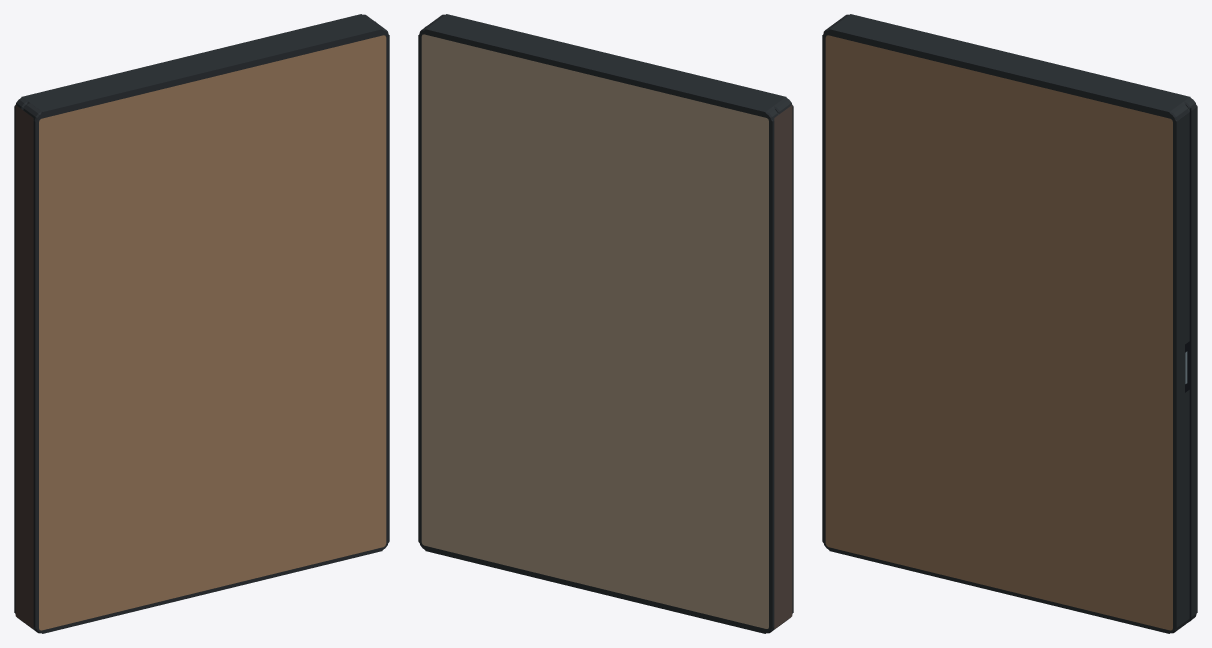
Rendered from dvd.glb.
3 views of the same model, side by side, from view 1: azimuth 30°, elevation 25°; view 2: azimuth 150°, elevation 25°; view 3: azimuth 330°, elevation 25° (orthographic).
Parts seen in each view (by area): view 1: Detail_dvd, Shelf_dvd; view 2: Detail_dvd, Shelf_dvd; view 3: Detail_dvd, Shelf_dvd.
Boxes of the visible parts, left/top/right/bottom form: Detail_dvd: left=15, top=14, right=388, bottom=633; Shelf_dvd: left=14, top=14, right=389, bottom=633; Detail_dvd: left=419, top=14, right=792, bottom=633; Shelf_dvd: left=418, top=14, right=793, bottom=633; Detail_dvd: left=823, top=14, right=1196, bottom=633; Shelf_dvd: left=822, top=14, right=1197, bottom=633.
Size of what is drawn, in the model's own units: 0.135 by 0.1899 by 0.014.
